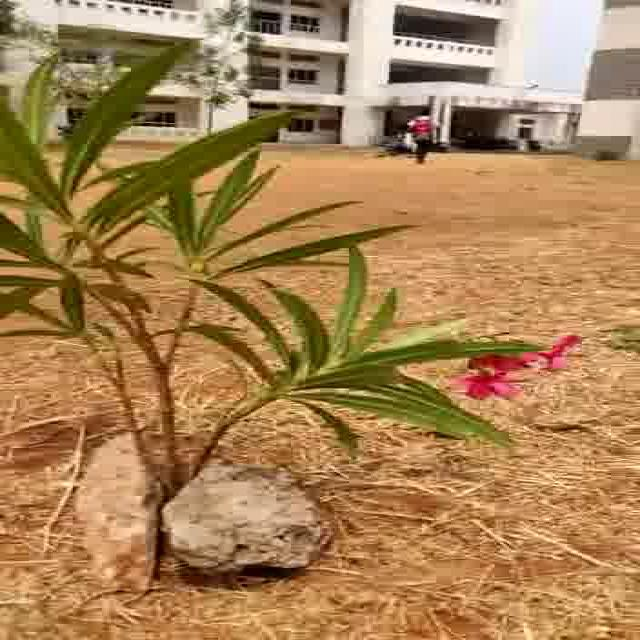OLEANDER: (1, 60, 601, 485)
